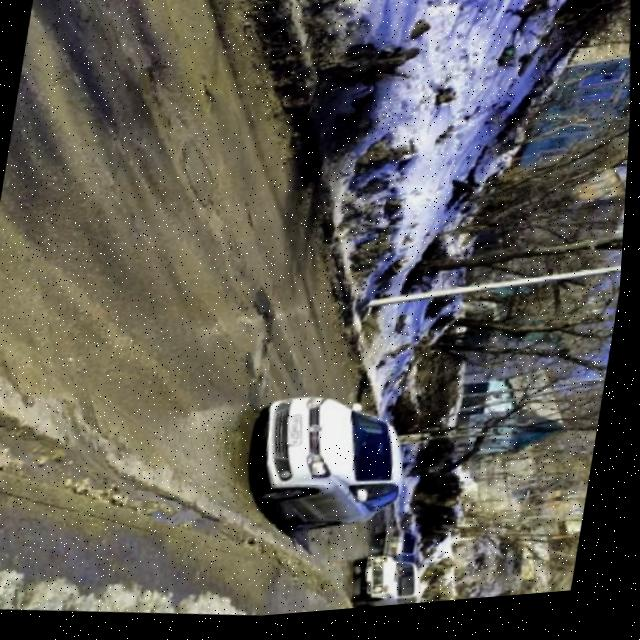Pothole: (213, 294, 299, 391)
